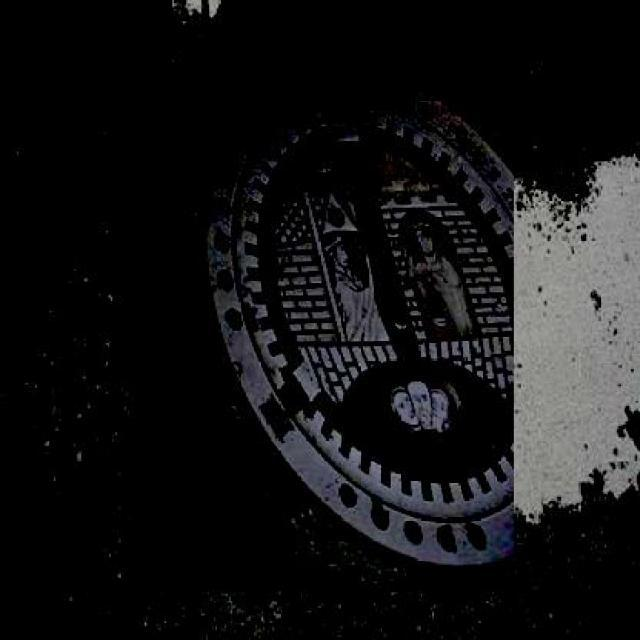Manhole: (131, 72, 514, 592)
